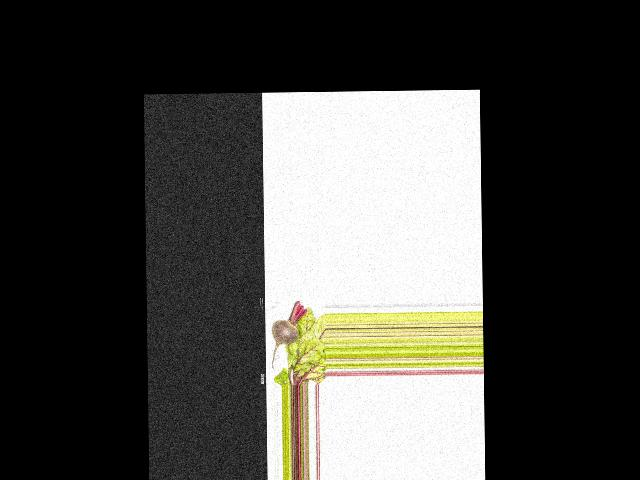beet: (270, 300, 307, 370)
